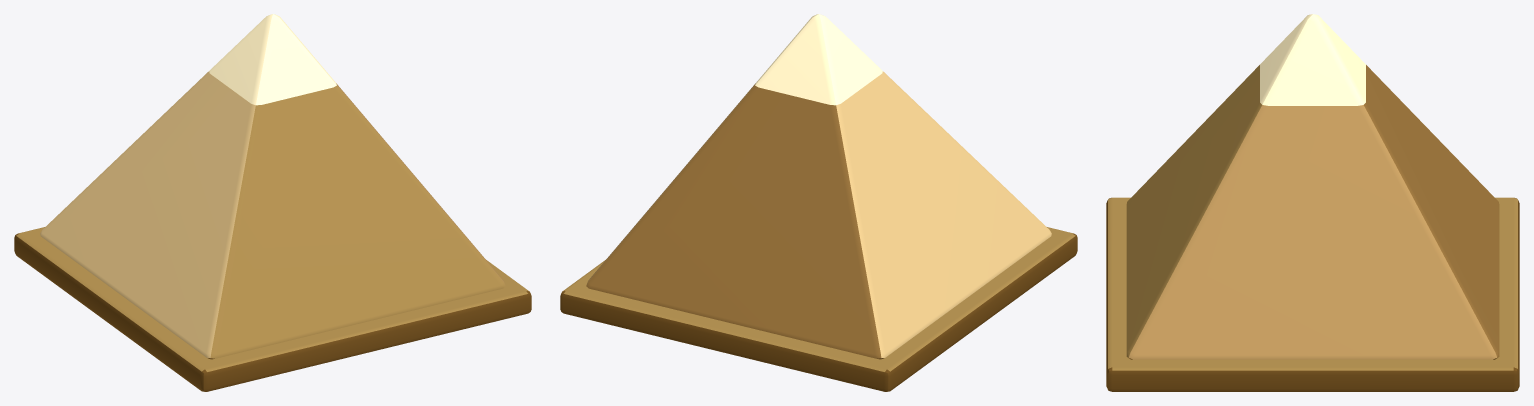
The model's file is pyramid_cap.glb.
3 views of the same model, side by side, from view 1: azimuth 30°, elevation 25°; view 2: azimuth 150°, elevation 25°; view 3: azimuth 270°, elevation 25° (orthographic). The views are drawn at different scales.
Parts seen in each view (by area): view 1: cap, cap_plinth; view 2: cap, cap_plinth; view 3: cap, cap_plinth.
Part boxes in pixels (x1=…): cap: x1=40, y1=14, x2=505, y2=359; cap_plinth: x1=14, y1=227, x2=531, y2=391; cap: x1=586, y1=14, x2=1051, y2=359; cap_plinth: x1=560, y1=227, x2=1077, y2=391; cap: x1=1126, y1=14, x2=1499, y2=359; cap_plinth: x1=1106, y1=197, x2=1519, y2=391.
Size of the model in its own units: 12.2 by 9.54 by 12.2.
